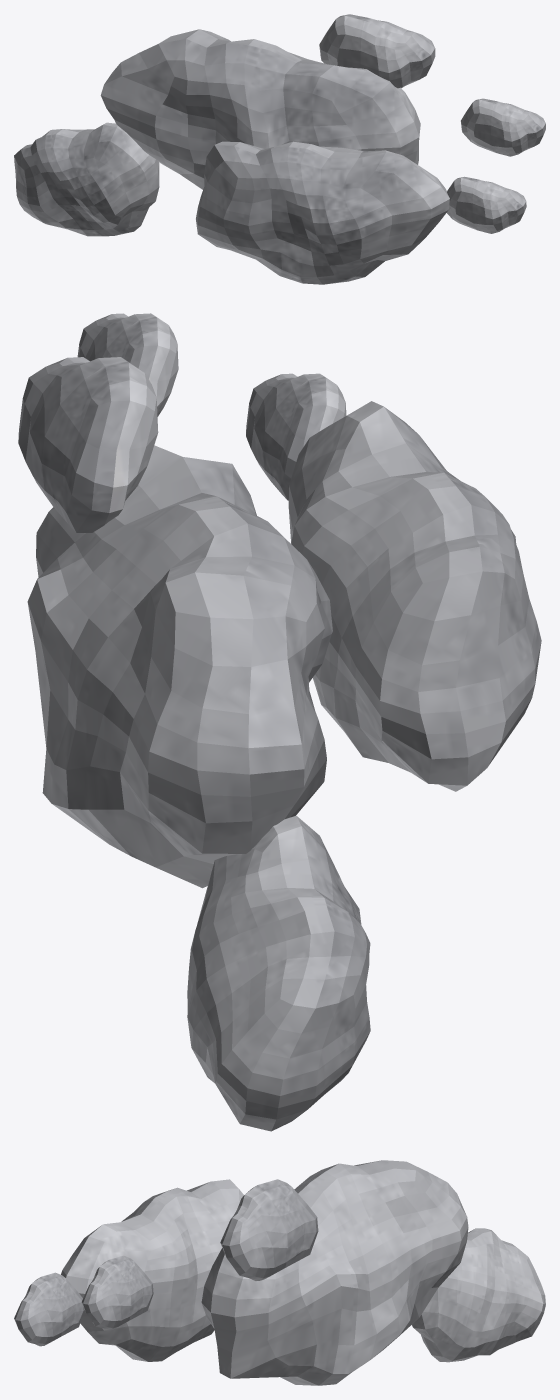
File: cloud.obj
3 renders of one model, top to bottom at view 1: azimuth 30°, elevation 25°; view 2: azimuth 150°, elevation 25°; view 3: azimuth 270°, elevation 25°, orthographic. The views are drawn at different scales.
Visible parts, largest first — view 1: cloud; view 2: cloud; view 3: cloud.
Boxes of the visible parts, x1,y1,x2,y2 form: cloud: (14,14,545,284); cloud: (18,313,541,1131); cloud: (14,1160,545,1385).
Bounding box in the file's own units: 4.97 × 3.59 × 6.75.
Materials: 1 (1 with a texture image).
